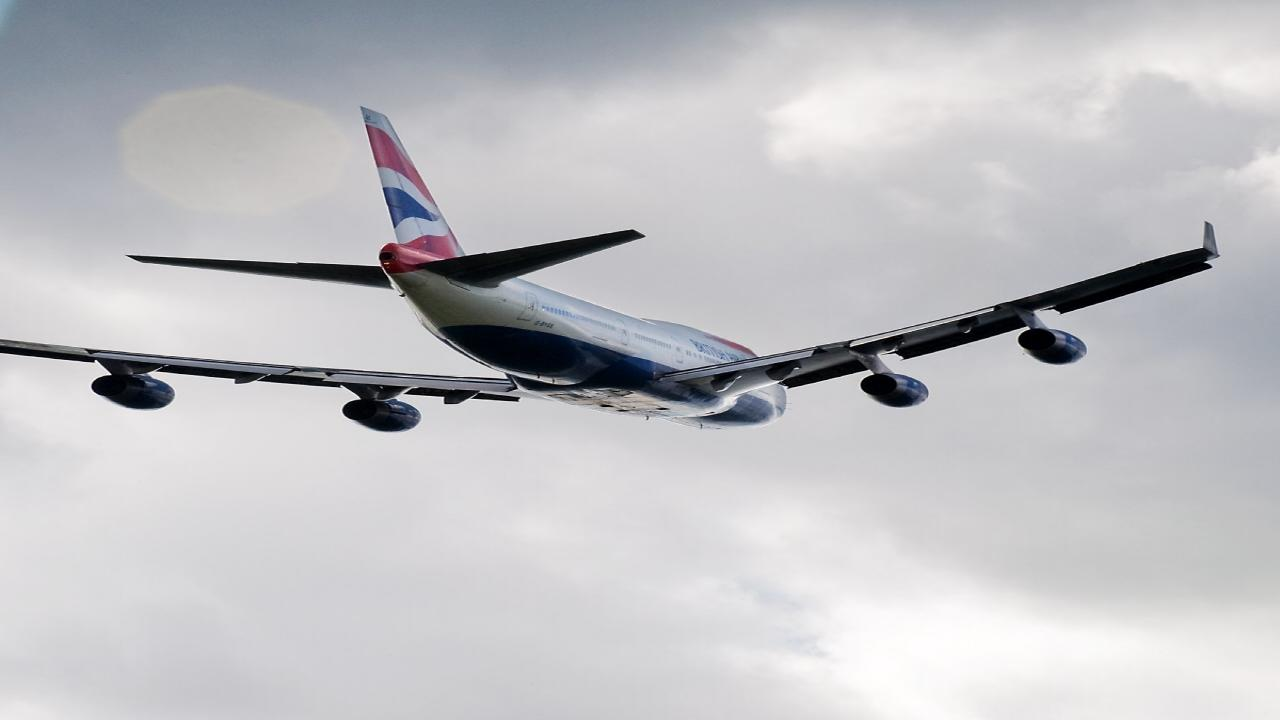Airplane: (0, 92, 1242, 459)
